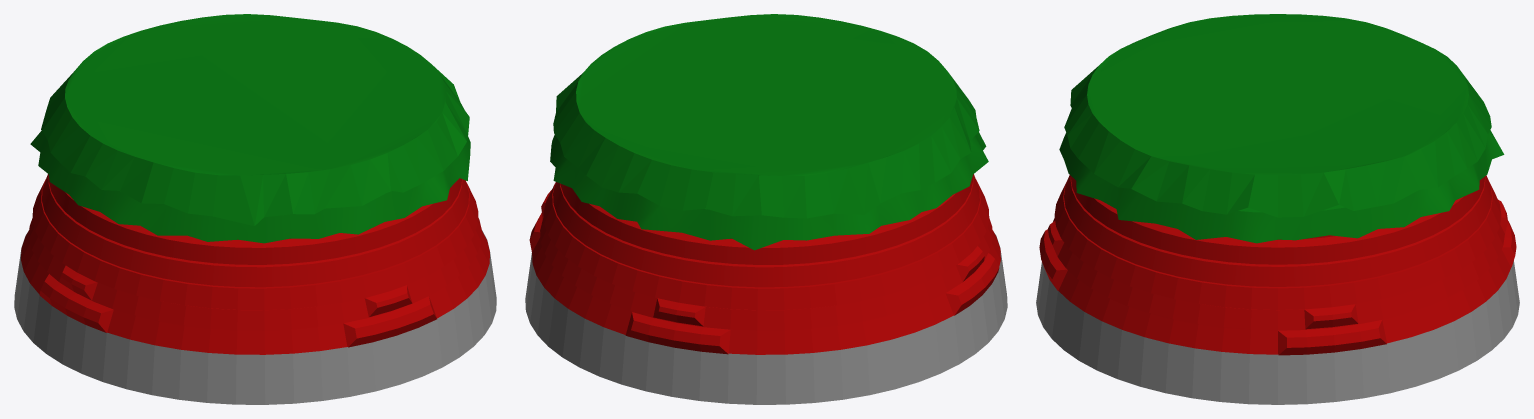
File: karkuresi.FBX
The picture shows the model from 3 angles, left to right: view 1: azimuth 30°, elevation 25°; view 2: azimuth 150°, elevation 25°; view 3: azimuth 270°, elevation 25°; orthographic projection.
Parts seen in each view (by area): view 1: silver; view 2: silver; view 3: silver.
Part boxes in pixels (x1,y1,x2,y2): silver: [14, 14, 496, 404]; silver: [525, 14, 1007, 404]; silver: [1036, 14, 1519, 404].
Bounding box in the file's own units: 43.99 × 20.97 × 43.99.
